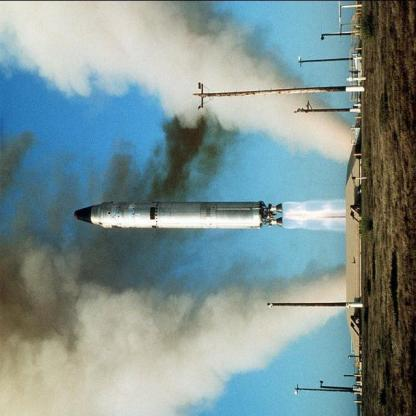MIL_TBM: (76, 196, 266, 234)
